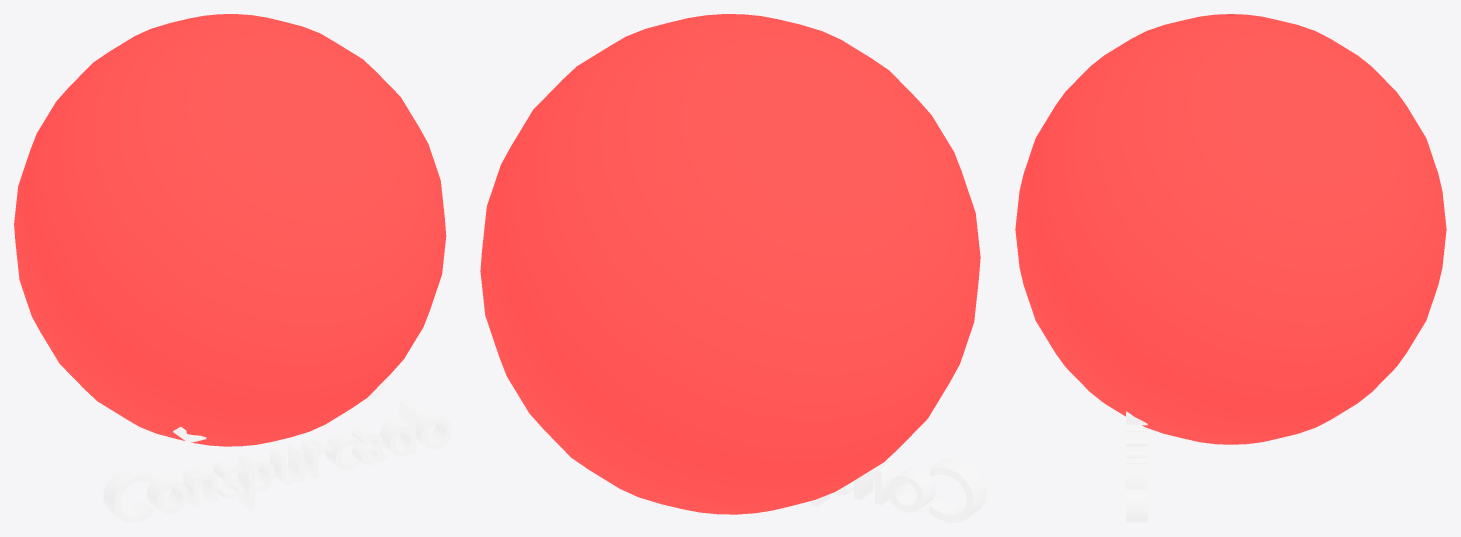
Rendered from filtro-de-oleo-compurscado.glb.
3 views of the same model, side by side, from view 1: azimuth 30°, elevation 25°; view 2: azimuth 150°, elevation 25°; view 3: azimuth 270°, elevation 25° (orthographic). The views are drawn at different scales.
Visible parts, largest first — view 1: Sphere.022, Text.023; view 2: Sphere.022, Text.023; view 3: Sphere.022, Text.023.
Boxes of the visible parts, bbox=[...] form: Sphere.022: bbox=[14, 14, 446, 446]; Text.023: bbox=[103, 380, 451, 522]; Sphere.022: bbox=[480, 14, 980, 514]; Text.023: bbox=[811, 458, 986, 522]; Sphere.022: bbox=[1015, 14, 1446, 444]; Text.023: bbox=[1126, 411, 1147, 522].
Size of the model in its own units: 5.15 by 5.62 by 5.15.
